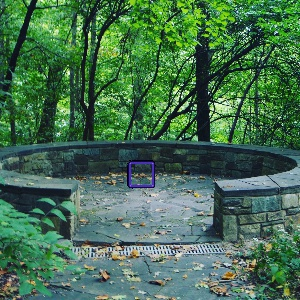square: (126, 160, 155, 188)
